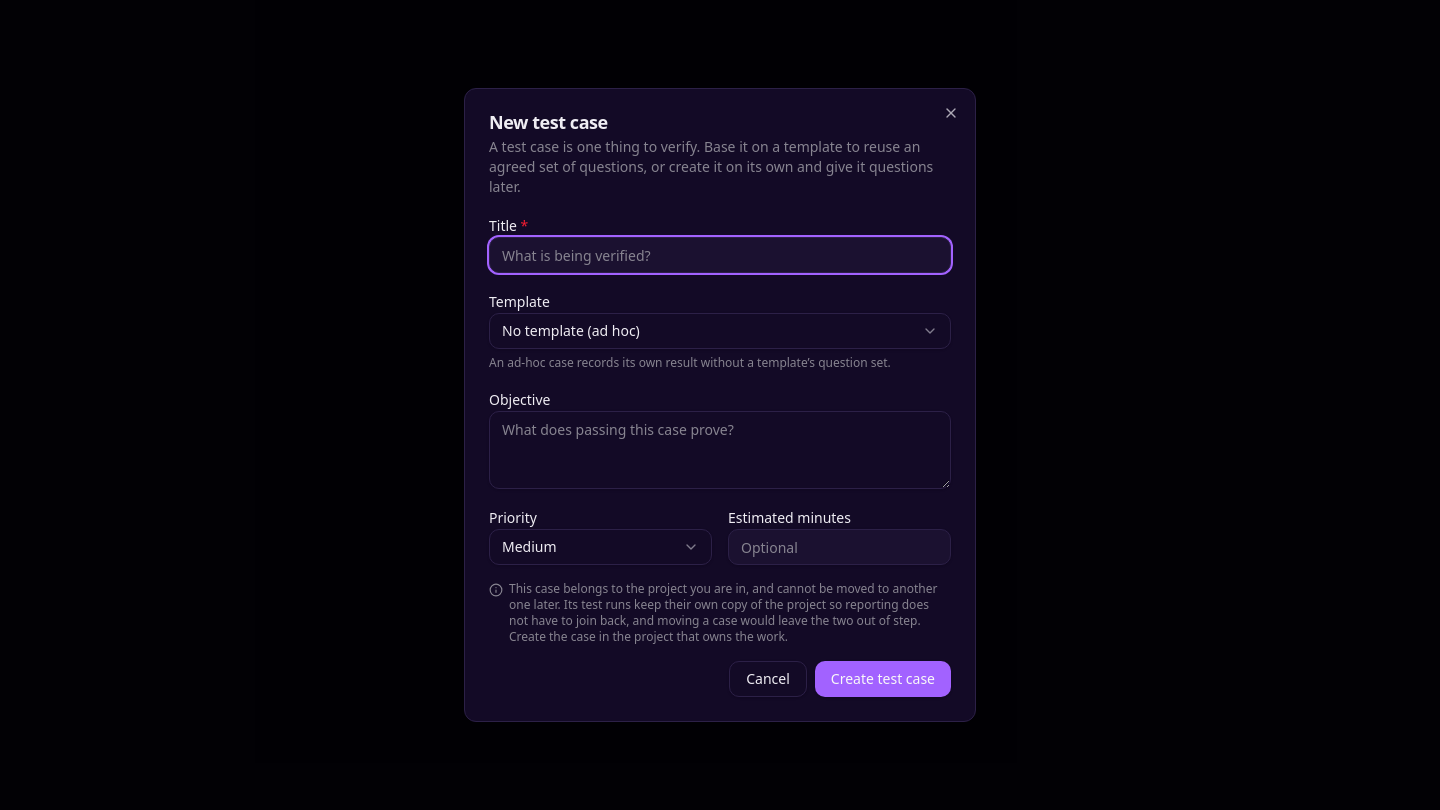
Test: the ad-hoc path (FR-013) › refuses to write without a title, and says why
Click the button "Create test case" at (883, 679), box left=815, top=661, right=951, bottom=697
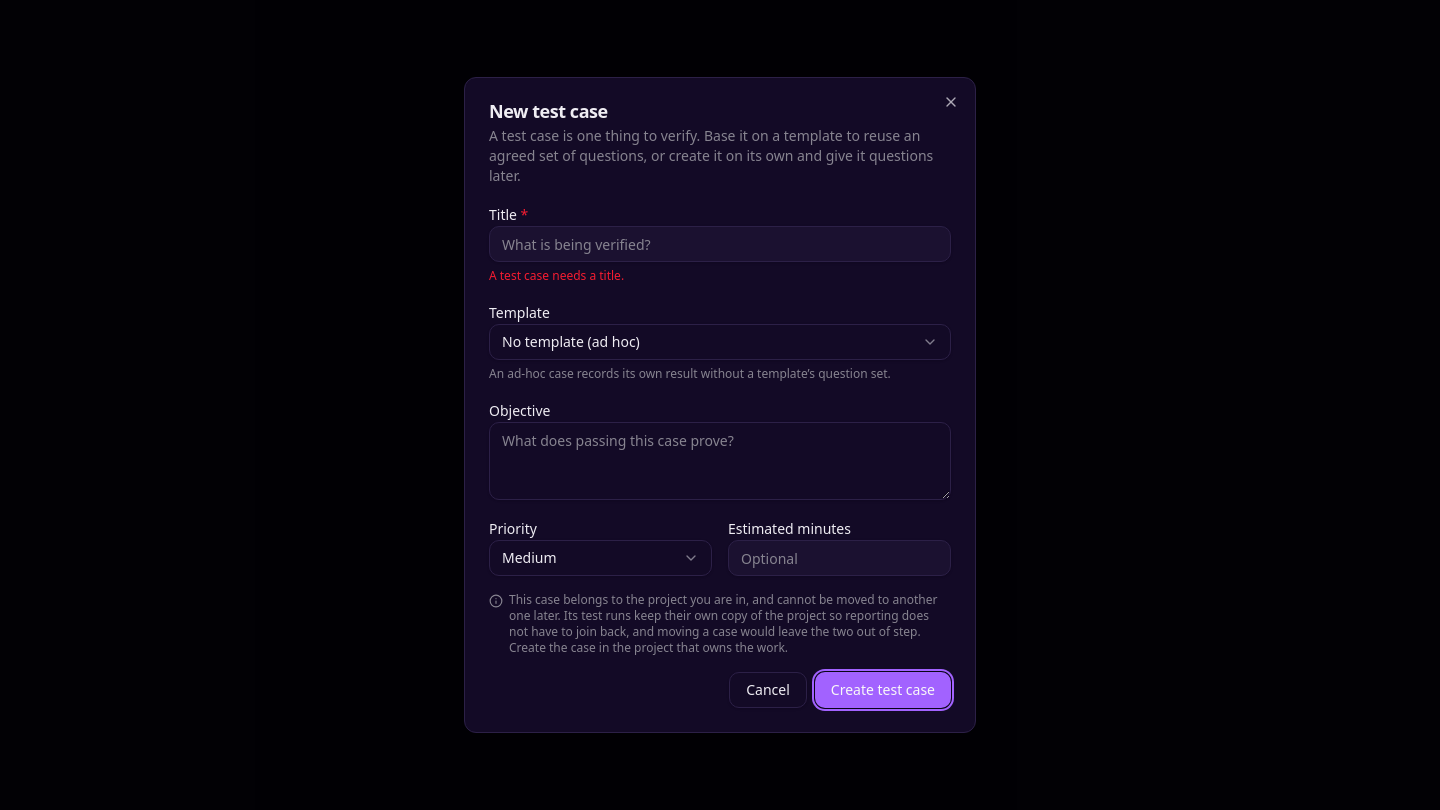
Expected: the message shows "needs a title", left=489, top=267, right=624, bottom=284
